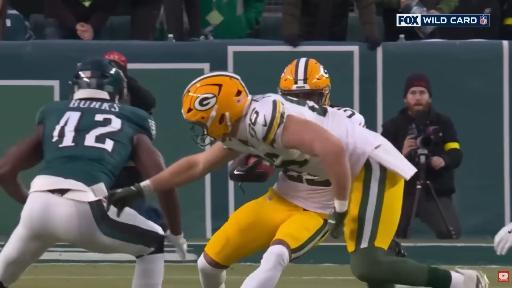Helmet: (183, 72, 249, 145), (278, 58, 330, 105), (72, 58, 127, 102)
Jersey: (223, 94, 383, 179), (37, 100, 155, 187), (274, 168, 333, 213)
Player: (108, 72, 488, 287), (0, 59, 165, 287), (198, 168, 333, 287), (494, 224, 511, 255)
